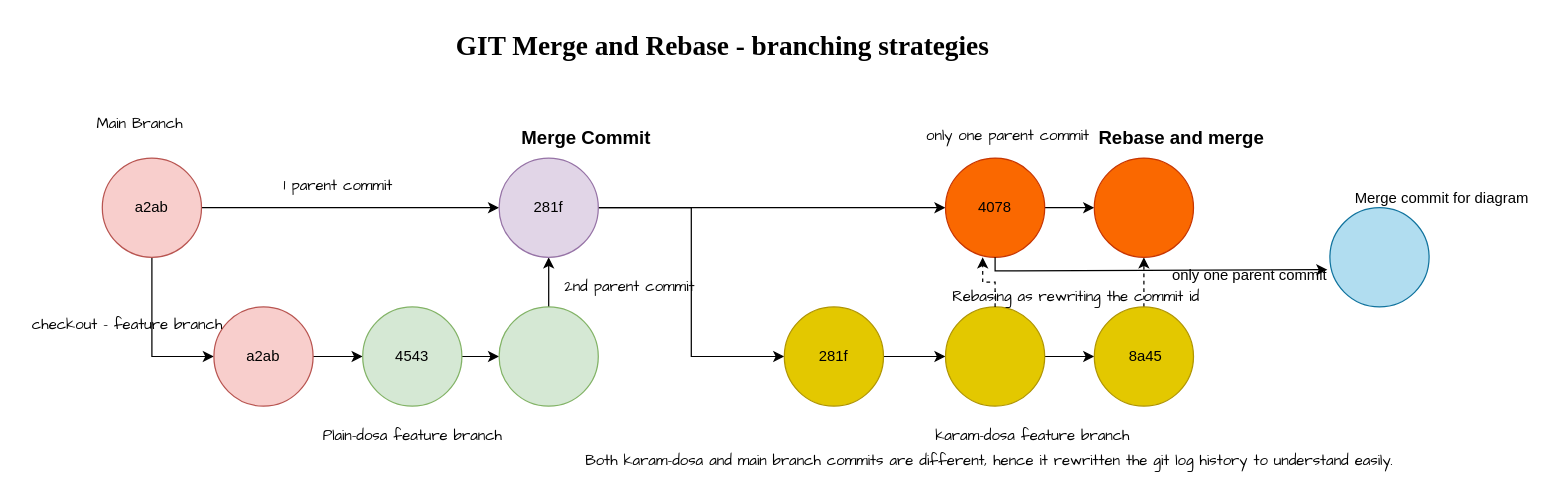
Image size: 1561x501. Some labels were removed from this diagram. The shapes that lost their labels are listed below. From the top down, each one's centre as x and y in pixels, then its label:
At point (1143, 207): "a92c".
At point (1379, 256): "42de".
At point (548, 356): "8b9a".
At point (994, 356): "c72e".
